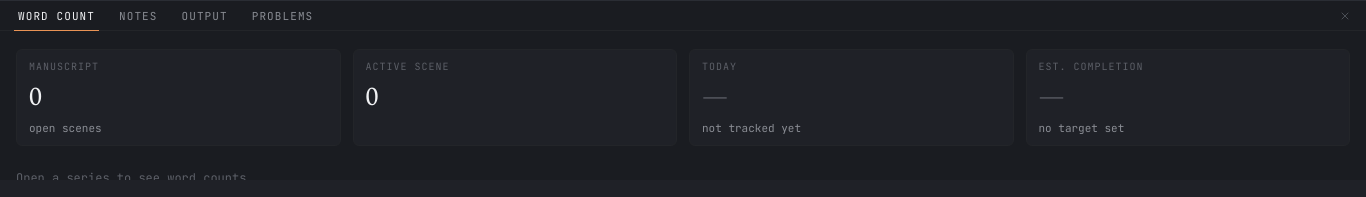
Scenario: BottomPanel checklist behavior › reorders via drag-and-drop while preserving done state
What coordinates should you click on to do the following:
click the text "Notes"
I would click on:
 (138, 16)
Its box is [119,8,158,22].
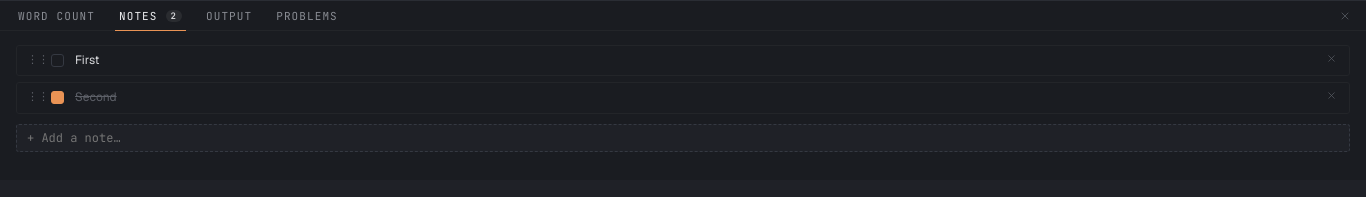
expect the text "First" is shown: met, box [75,52,100,68]
expect the text "Second" is shown: met, box [75,89,117,105]
